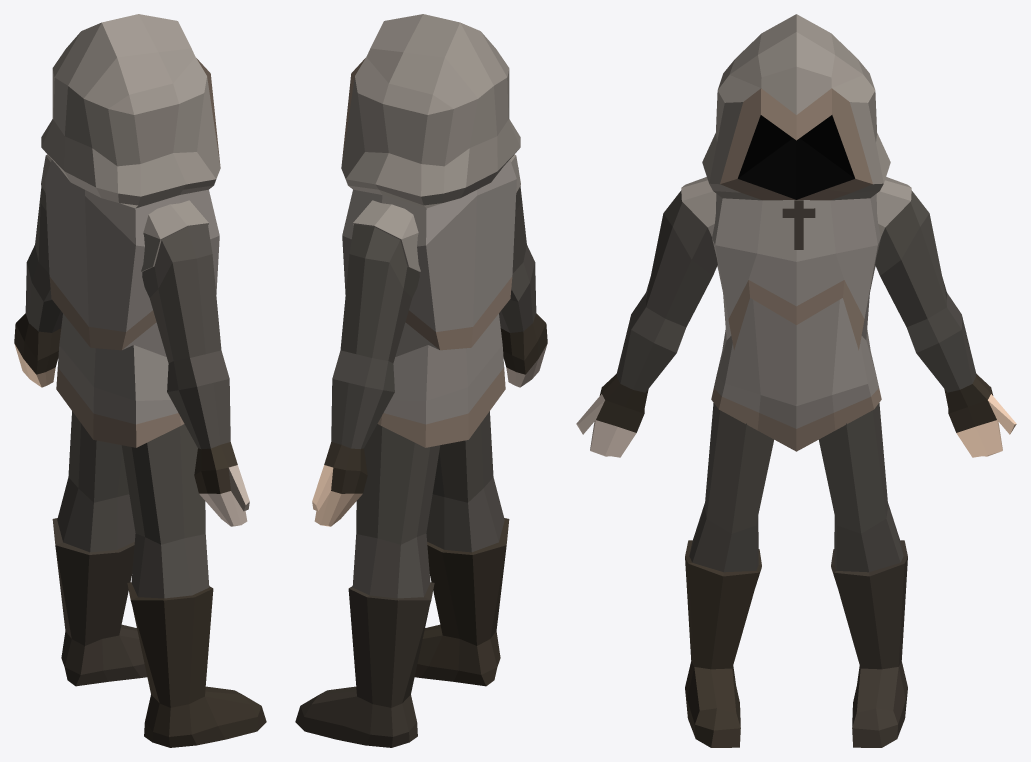
Rendered from CrossEnemy.fbx.
The picture shows the model from 3 angles, left to right: view 1: azimuth 30°, elevation 25°; view 2: azimuth 150°, elevation 25°; view 3: azimuth 270°, elevation 25°; orthographic projection. The views are drawn at different scales.
Visible parts, largest first — view 1: head, torso, lower left leg.001, lower right leg', upper left arm, upper left leg, lower left arm, upper right leg, left hand.001, right hand, lower right arm, upper right arm.001; view 2: head, torso, lower right leg', lower left leg.001, upper right arm.001, upper right leg, lower right arm, upper left leg, right hand, left hand.001, lower left arm, upper left arm; view 3: torso, head, lower left leg.001, lower right leg', upper left arm, upper right arm.001, upper left leg, upper right leg, lower left arm, lower right arm, left hand.001, right hand.
Part boxes in pixels (left/top/right/bottom): head: left=41, top=14, right=220, bottom=208; torso: left=45, top=160, right=219, bottom=447; lower left leg.001: left=127, top=533, right=266, bottom=747; lower right leg': left=52, top=477, right=147, bottom=686; upper left arm: left=141, top=200, right=221, bottom=363; upper left leg: left=121, top=424, right=205, bottom=544; lower left arm: left=167, top=350, right=230, bottom=449; upper right leg: left=68, top=411, right=129, bottom=502; left hand.001: left=194, top=442, right=249, bottom=526; right hand: left=14, top=313, right=61, bottom=387; lower right arm: left=25, top=245, right=62, bottom=332; upper right arm.001: left=35, top=154, right=51, bottom=273; head: left=341, top=14, right=520, bottom=208; torso: left=342, top=160, right=516, bottom=447; lower right leg': left=295, top=533, right=434, bottom=747; lower left leg.001: left=414, top=477, right=509, bottom=686; upper right arm.001: left=340, top=200, right=420, bottom=363; upper right leg: left=356, top=424, right=440, bottom=544; lower right arm: left=331, top=350, right=394, bottom=449; upper left leg: left=432, top=411, right=493, bottom=502; right hand: left=312, top=442, right=367, bottom=526; left hand.001: left=500, top=313, right=547, bottom=387; lower left arm: left=499, top=245, right=536, bottom=332; upper left arm: left=510, top=154, right=526, bottom=273; torso: left=711, top=194, right=881, bottom=451; head: left=702, top=14, right=890, bottom=200; lower left leg.001: left=685, top=503, right=761, bottom=747; lower right leg': left=831, top=503, right=907, bottom=747; upper left arm: left=646, top=177, right=717, bottom=327; upper right arm.001: left=875, top=177, right=946, bottom=327; upper left leg: left=704, top=403, right=773, bottom=533; upper right leg: left=819, top=403, right=888, bottom=533; lower left arm: left=616, top=293, right=686, bottom=392; lower right arm: left=906, top=293, right=976, bottom=392; left hand.001: left=576, top=374, right=648, bottom=457; right hand: left=944, top=374, right=1016, bottom=457.
Bounding box in the file's own units: 149 × 626 × 368.
